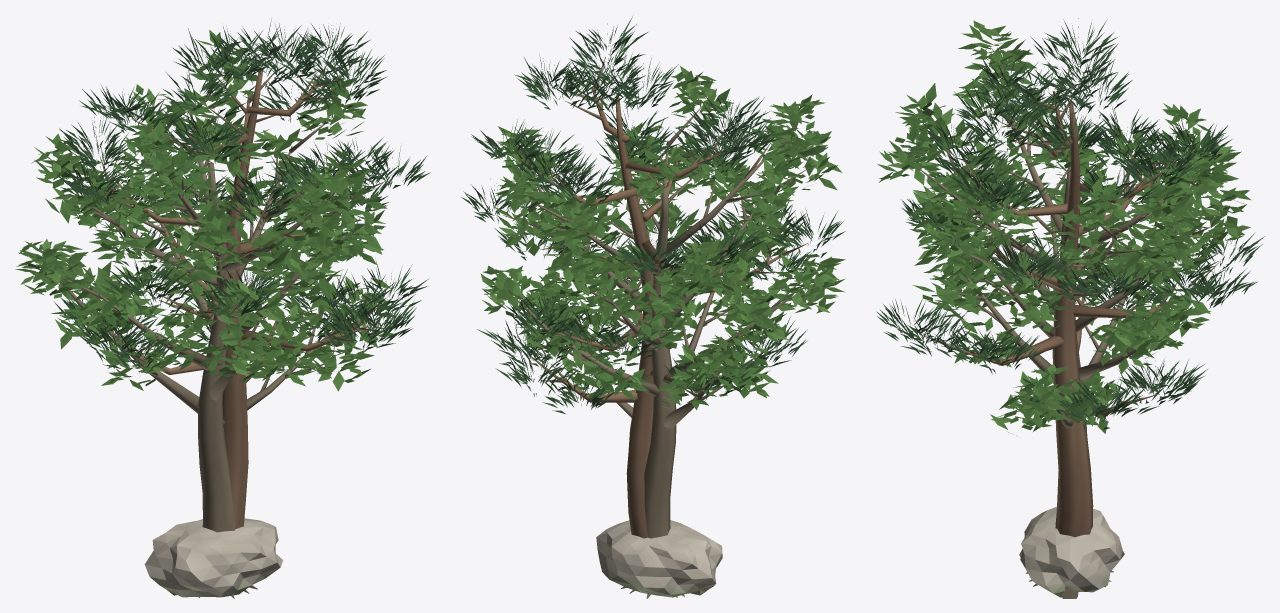
The model's file is trail-assets.glb.
The picture shows the model from 3 angles, left to right: view 1: azimuth 30°, elevation 25°; view 2: azimuth 150°, elevation 25°; view 3: azimuth 270°, elevation 25°; orthographic projection. The views are drawn at different scales.
Parts seen in each view (by area): view 1: BroadleafLeaves, PineNeedles, BroadleafBark, PineBark, Boulder; view 2: BroadleafLeaves, PineNeedles, BroadleafBark, PineBark, Boulder; view 3: BroadleafLeaves, PineNeedles, PineBark, BroadleafBark, Boulder.
Boxes of the visible parts, x1,y1,x2,y2 form: BroadleafLeaves: (15,30,394,391); PineNeedles: (53,18,430,373); BroadleafBark: (53,68,363,598); PineBark: (98,65,384,597); Boulder: (144,518,282,597); BroadleafLeaves: (480,66,845,409); PineNeedles: (461,15,845,413); BroadleafBark: (504,88,819,598); PineBark: (503,57,808,597); Boulder: (596,520,722,597); BroadleafLeaves: (877,20,1251,435); PineNeedles: (876,18,1264,431); PineBark: (919,61,1219,581); BroadleafBark: (908,47,1222,587); Boulder: (1019,506,1124,597).
Bounding box in the file's own units: 6.3 × 8.5 × 5.67.
